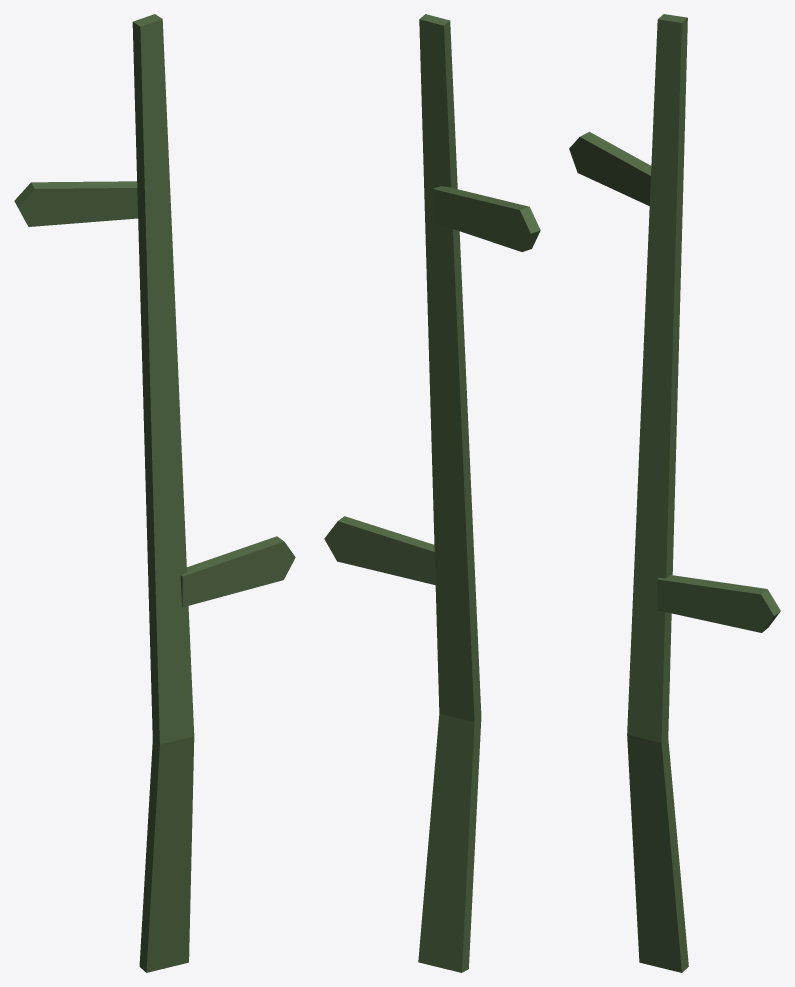
The model's file is flowers_harvested.glb.
3 renders of one model, left to right at view 1: azimuth 30°, elevation 25°; view 2: azimuth 150°, elevation 25°; view 3: azimuth 330°, elevation 25°, orthographic. The views are drawn at different scales.
Parts seen in each view (by area): view 1: Flowers_Harvested; view 2: Flowers_Harvested; view 3: Flowers_Harvested.
Boxes of the visible parts, box(x1,y1,x2,y2) form: Flowers_Harvested: box(14, 14, 295, 972); Flowers_Harvested: box(324, 14, 540, 972); Flowers_Harvested: box(569, 14, 780, 972).
Bounding box in the file's own units: 0.1928 × 0.715 × 0.0672.
